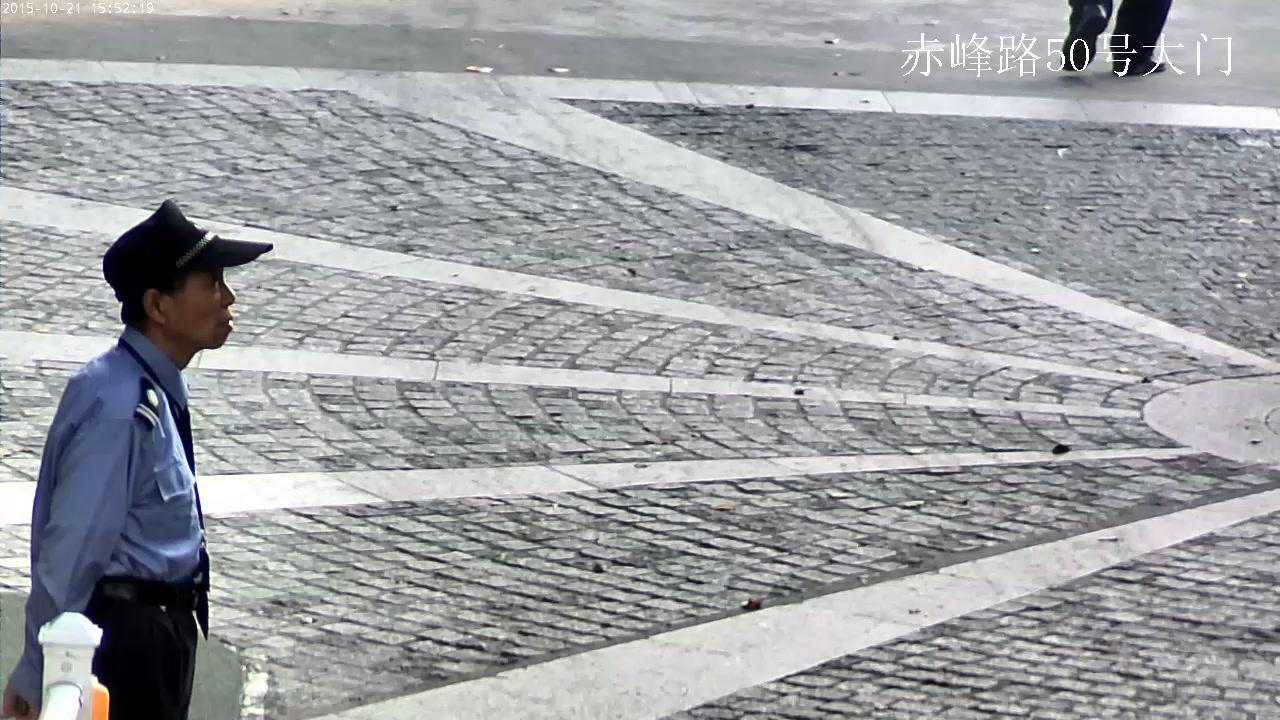face: (166, 266, 236, 349)
